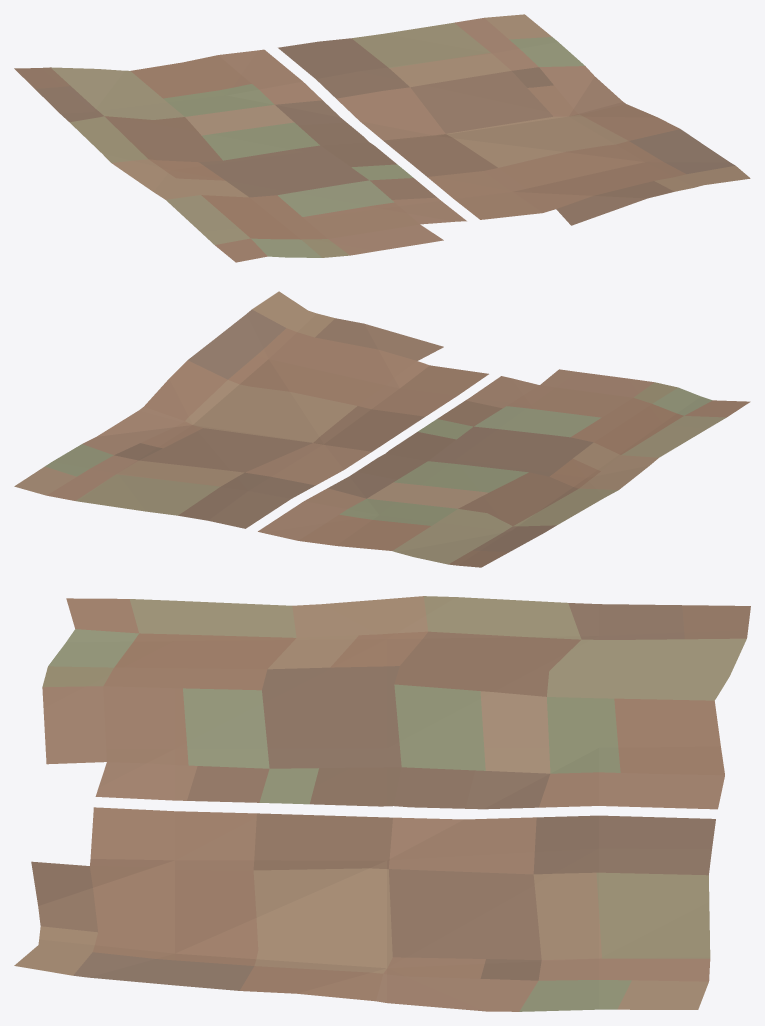
The model's file is farm_-22_-29_soil.glb.
3 views of the same model, one above another, from view 1: azimuth 30°, elevation 25°; view 2: azimuth 150°, elevation 25°; view 3: azimuth 270°, elevation 25° (orthographic). The views are drawn at different scales.
Visible parts, largest first — view 1: geometry_0; view 2: geometry_0; view 3: geometry_0.
Part boxes in pixels (x1=…): geometry_0: x1=14, y1=14, x2=750, y2=262; geometry_0: x1=14, y1=291, x2=750, y2=567; geometry_0: x1=14, y1=596, x2=750, y2=1011.
Size of the model in its own units: 312 by 32.34 by 278.
